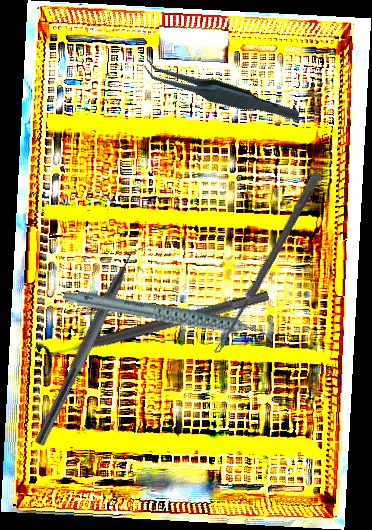Chopper: (33, 231, 157, 454)
Fixation Ring: (35, 278, 274, 379)
Handpiece: (61, 248, 276, 387)
Surgical Spoon: (212, 170, 323, 356)
Tissue Forceps: (138, 31, 302, 152)
